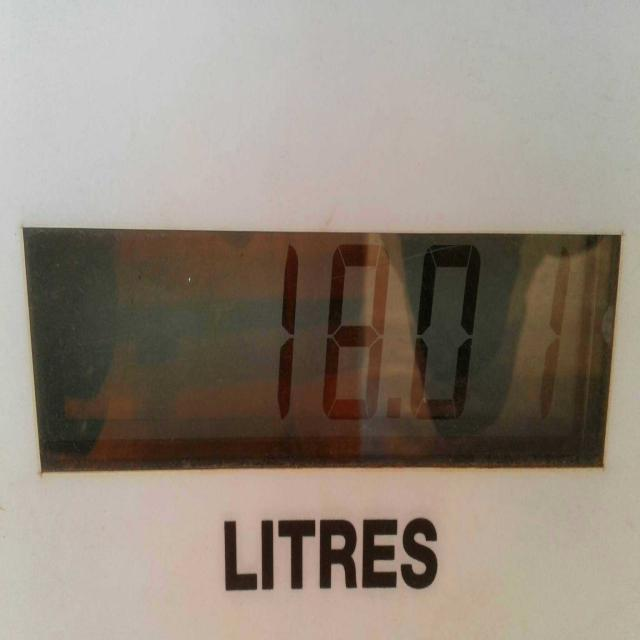.: (379, 391, 410, 447)
0: (402, 237, 488, 449)
1: (509, 240, 583, 436), (265, 245, 313, 450)
8: (319, 215, 395, 440)
